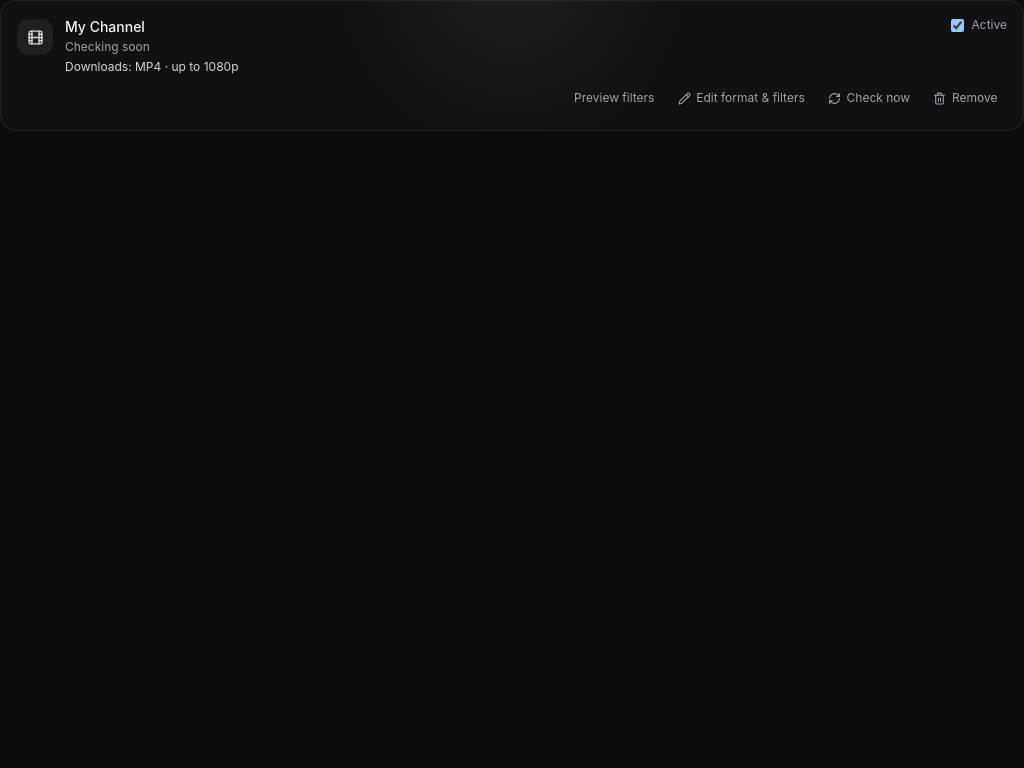
it: SubscriptionCard › cancel closes the editor without saving
Click the button "Edit format & filters".
click(741, 98)  # box [668, 83, 814, 114]
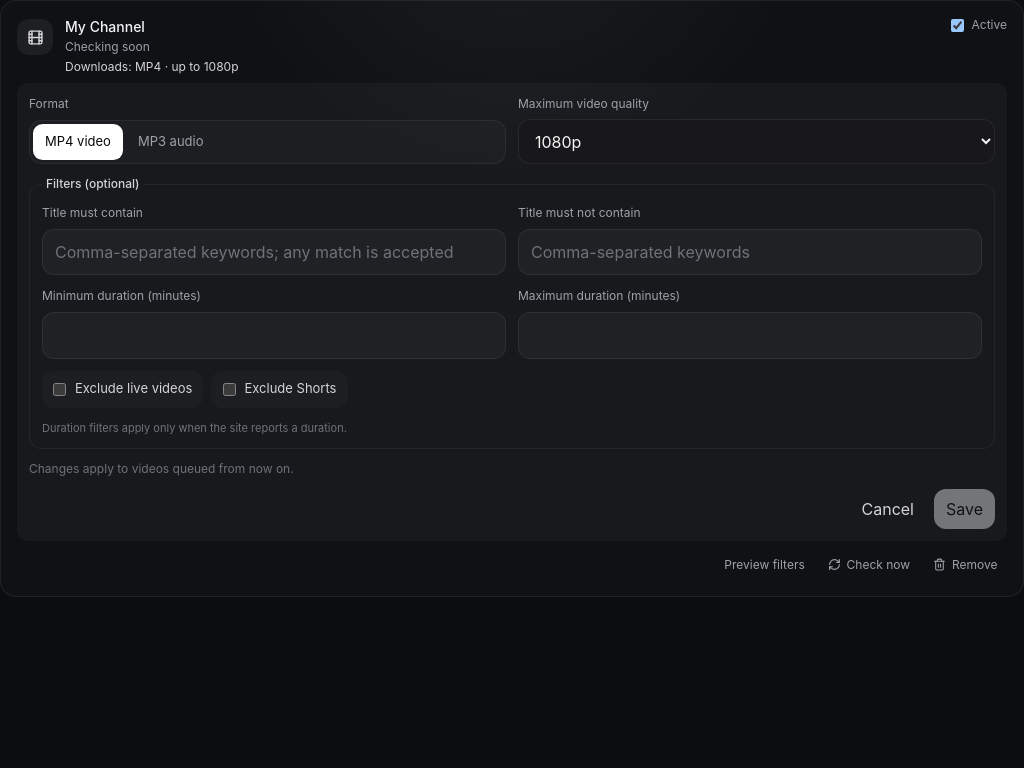
Click the button "Cancel".
click(888, 509)  # box [850, 489, 926, 529]
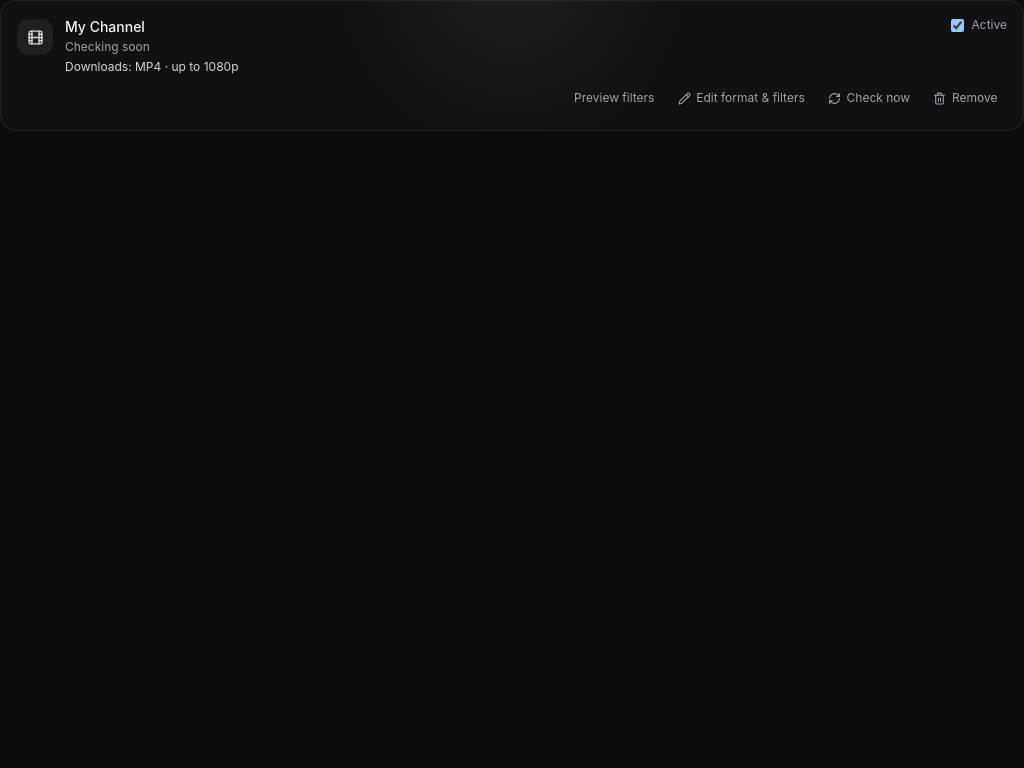
Result: the button "Edit format & filters" is shown at [668, 83, 814, 114]
